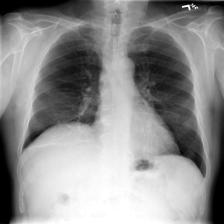normal: (19, 20, 208, 180)
